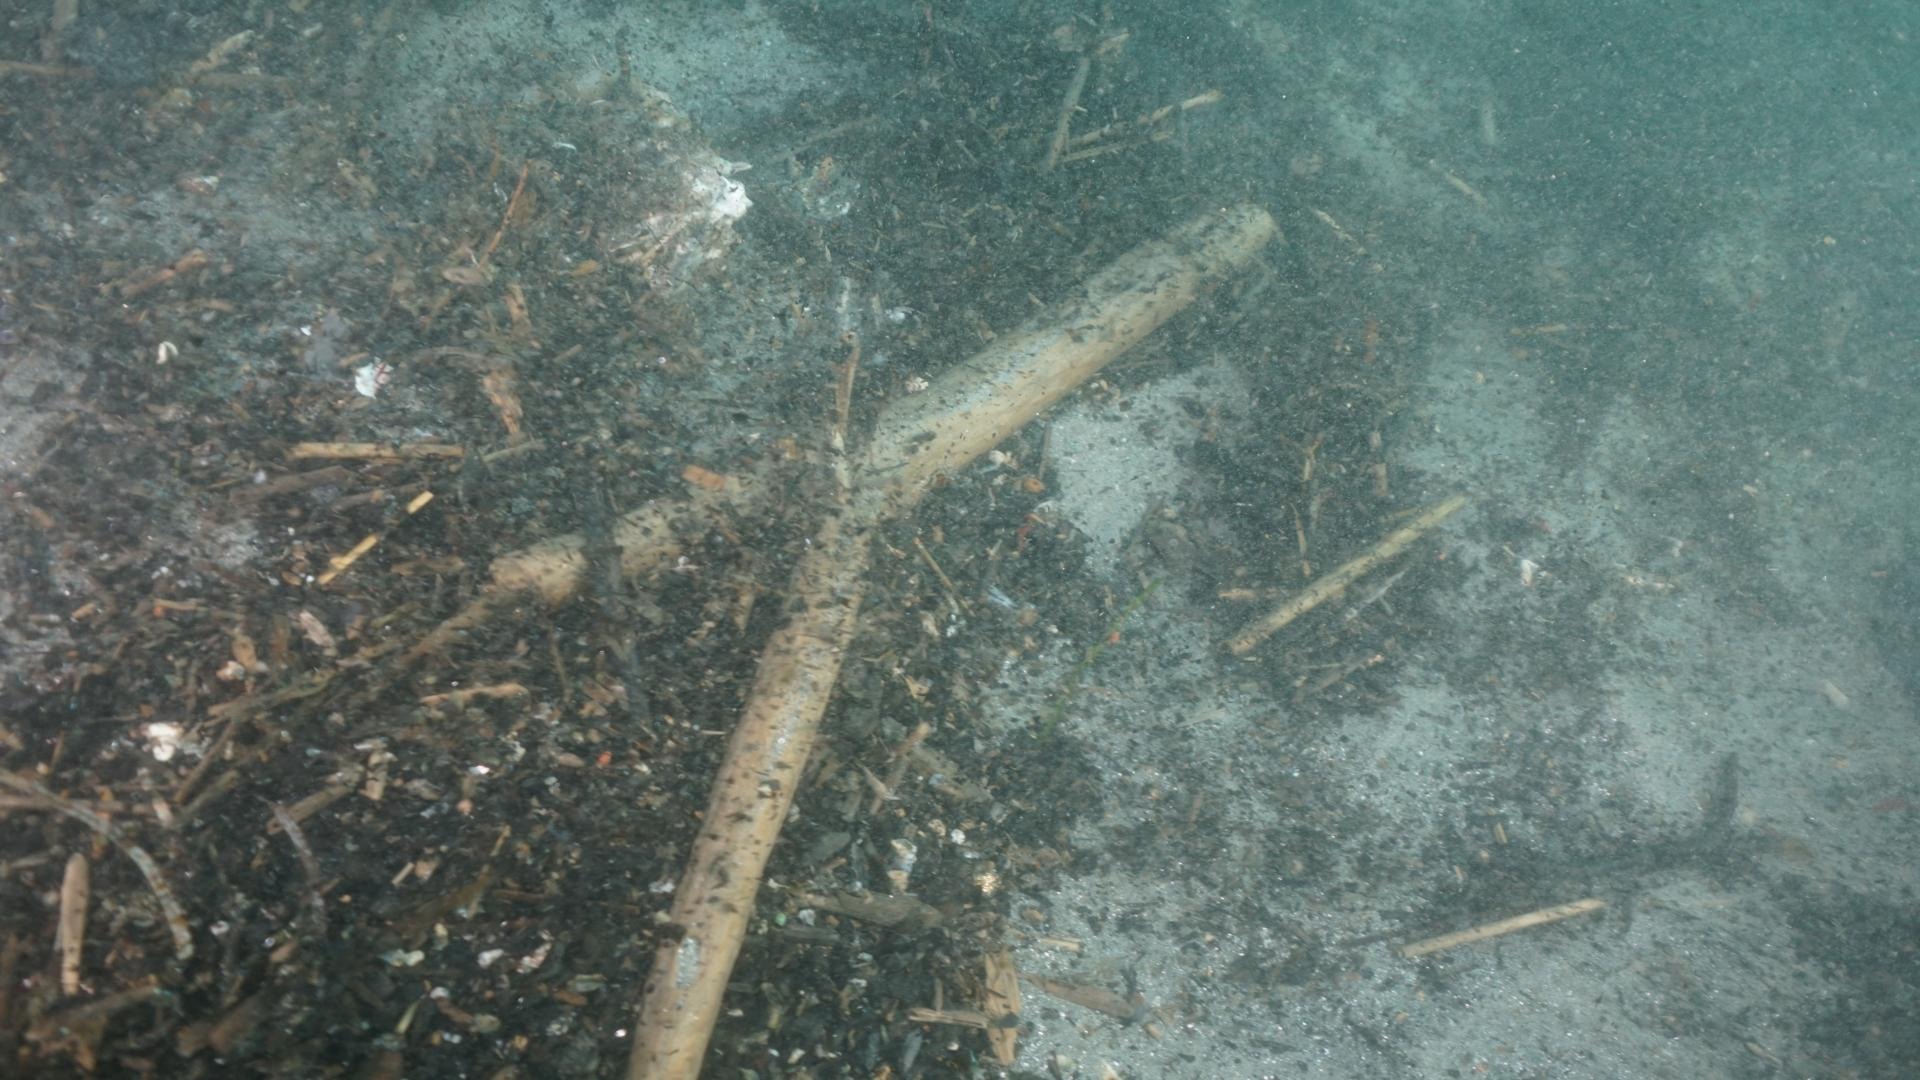wood: (485, 196, 1276, 1080)
